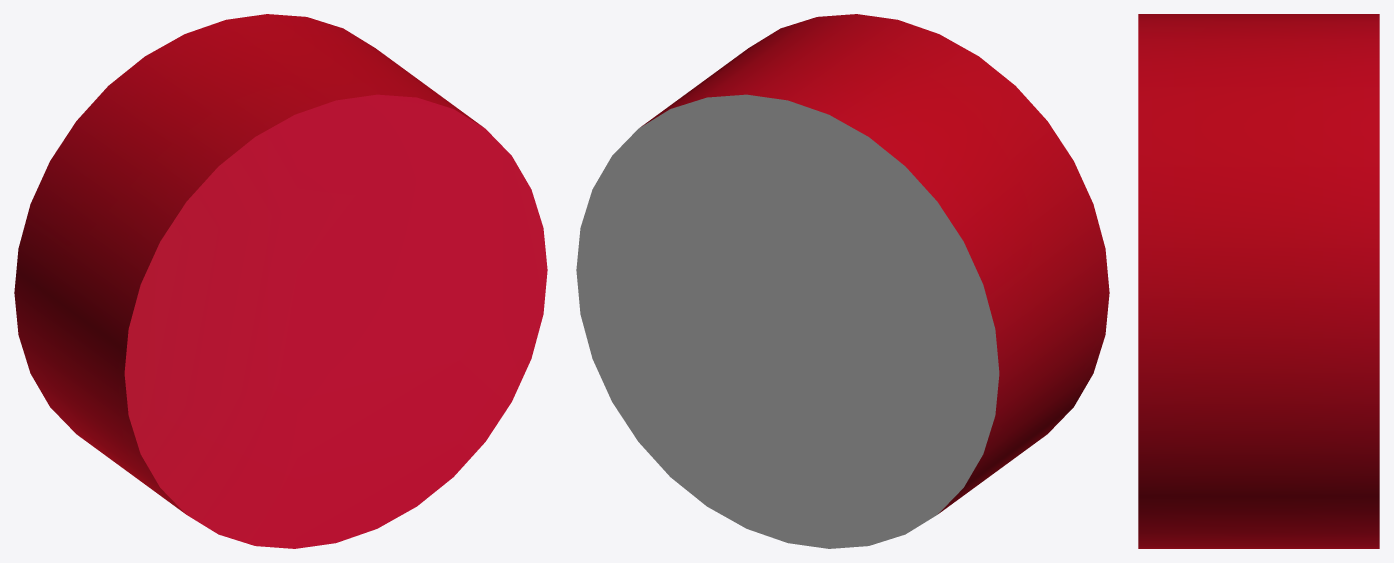
The picture shows the model from 3 angles, left to right: view 1: azimuth 30°, elevation 25°; view 2: azimuth 150°, elevation 25°; view 3: azimuth 270°, elevation 25°; orthographic projection. The views are drawn at different scales.
Parts seen in each view (by area): view 1: sliderDot; view 2: sliderDot; view 3: sliderDot.
Boxes of the visible parts, x1,y1,x2,y2 form: sliderDot: (14, 14, 547, 548); sliderDot: (576, 14, 1109, 548); sliderDot: (1138, 14, 1379, 548).
Size of what is drawn, in the model's own units: 0.0809 by 0.0809 by 0.0365.
Materials: 1 (1 with a texture image).
